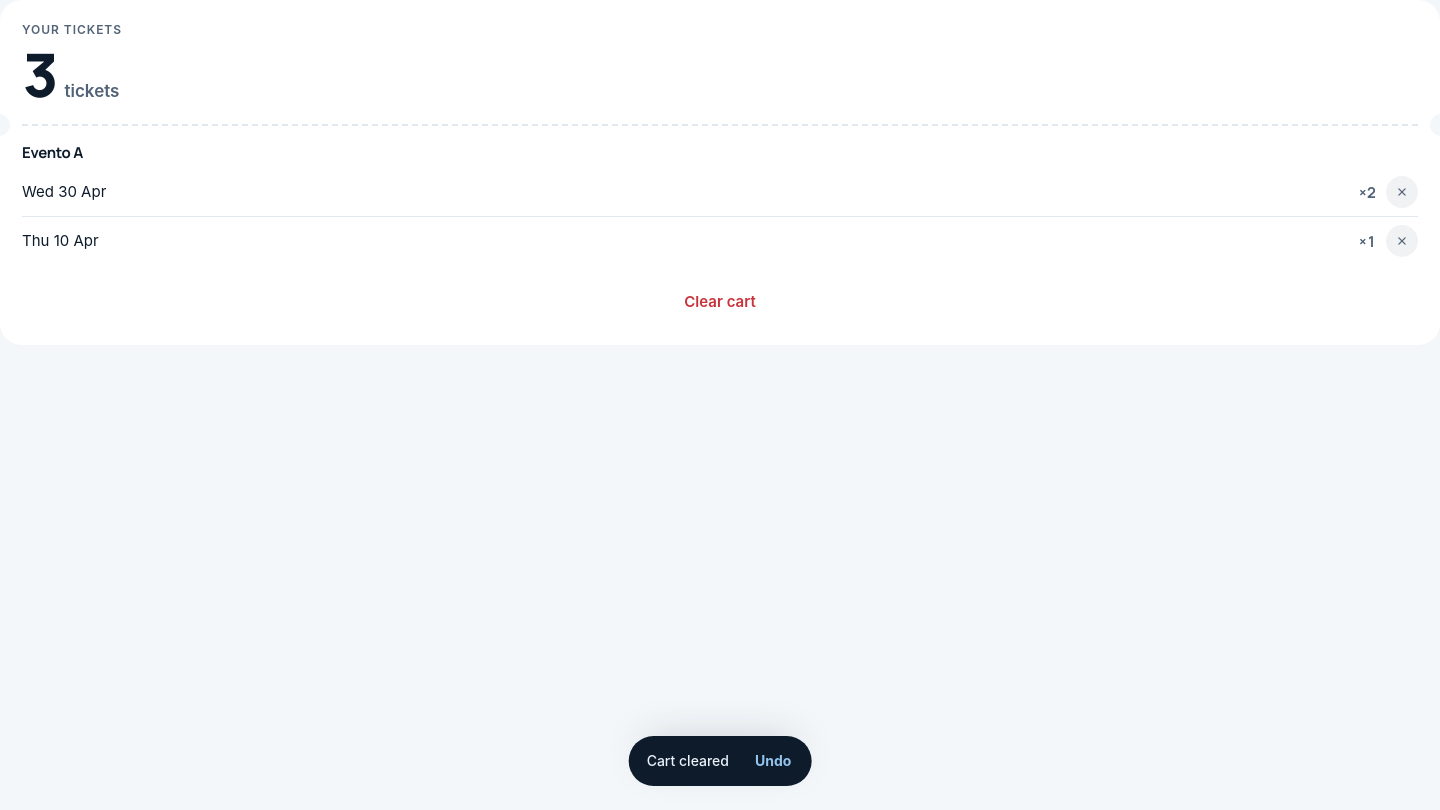
Test case: CartComponent › should clear the cart and offer an undo that restores it
Expected: the message "Cart cleared Undo" is shown, x1=629 y1=736 x2=811 y2=786
Click the button "Undo" at coordinates (773, 761), box x1=743 y1=744 x2=803 y2=778
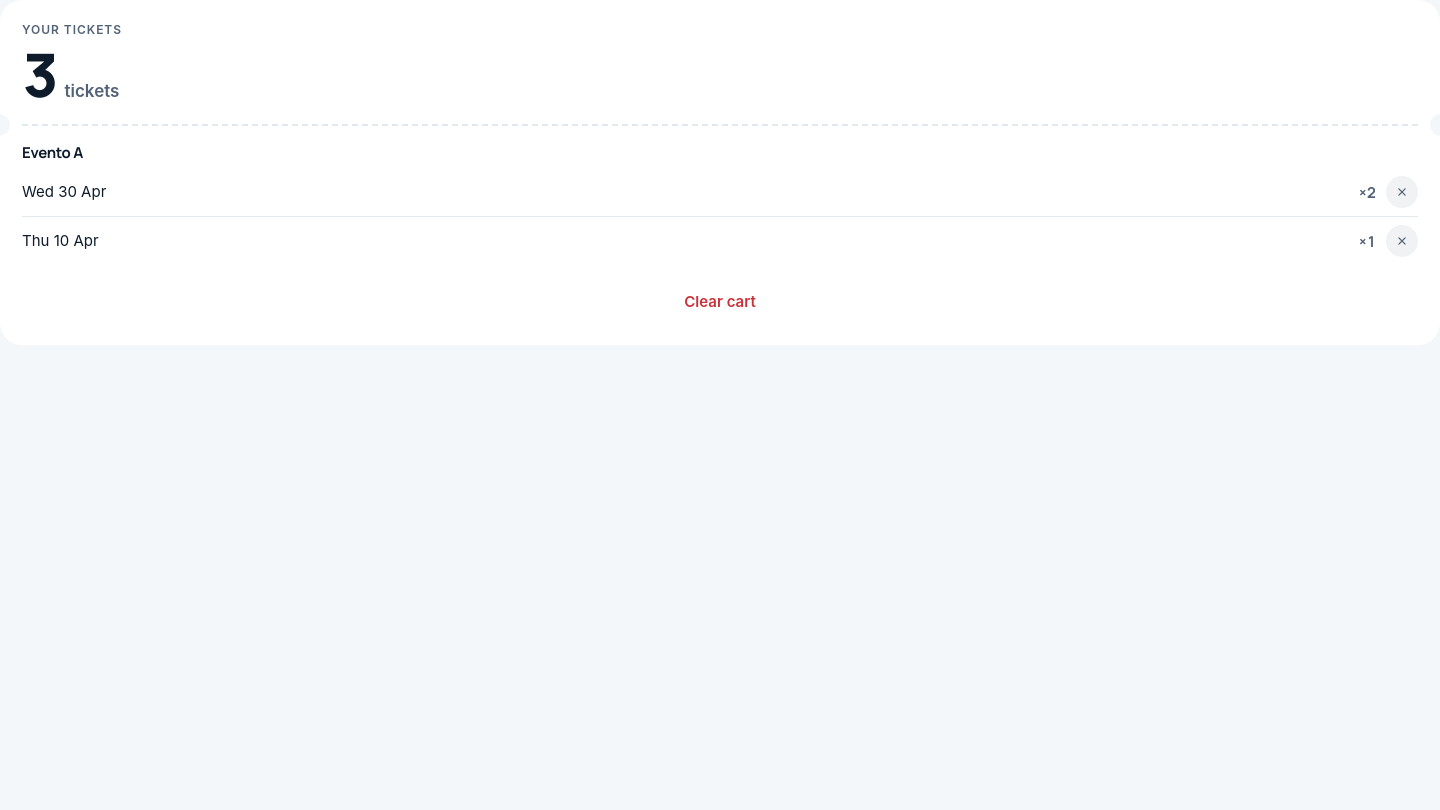
Now the message with class "toast" is gone
